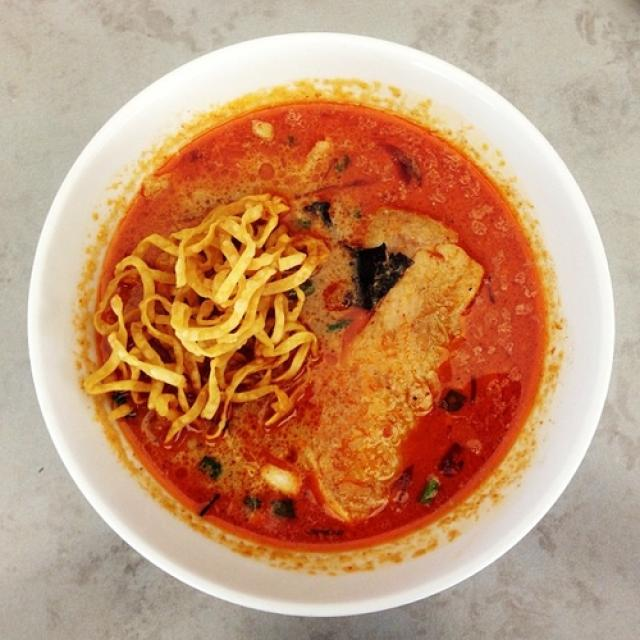面条主食: (55, 55, 585, 594)
